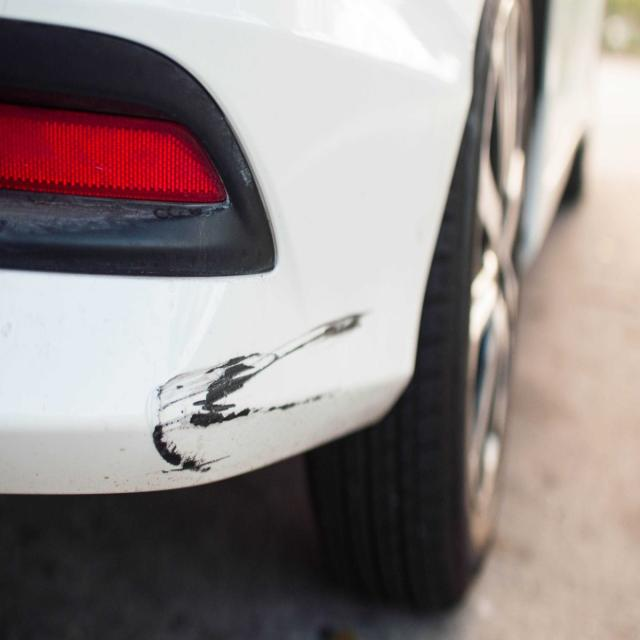scratch: (145, 311, 371, 480)
